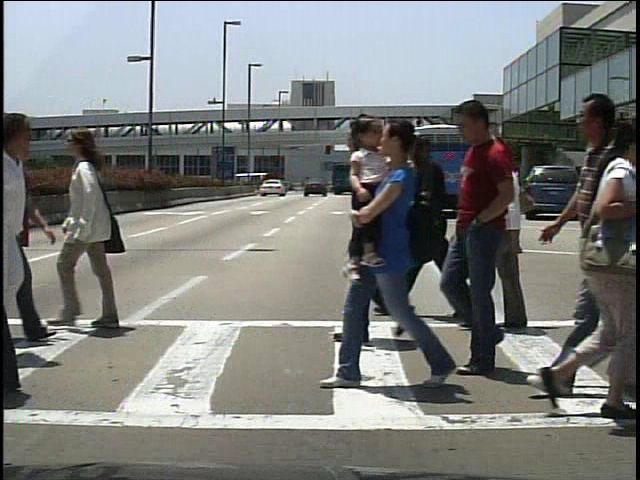person: (327, 119, 432, 347), (455, 101, 532, 379), (54, 119, 149, 343), (393, 130, 465, 322), (479, 139, 548, 337), (2, 113, 46, 366), (582, 168, 602, 218), (492, 164, 510, 216)
